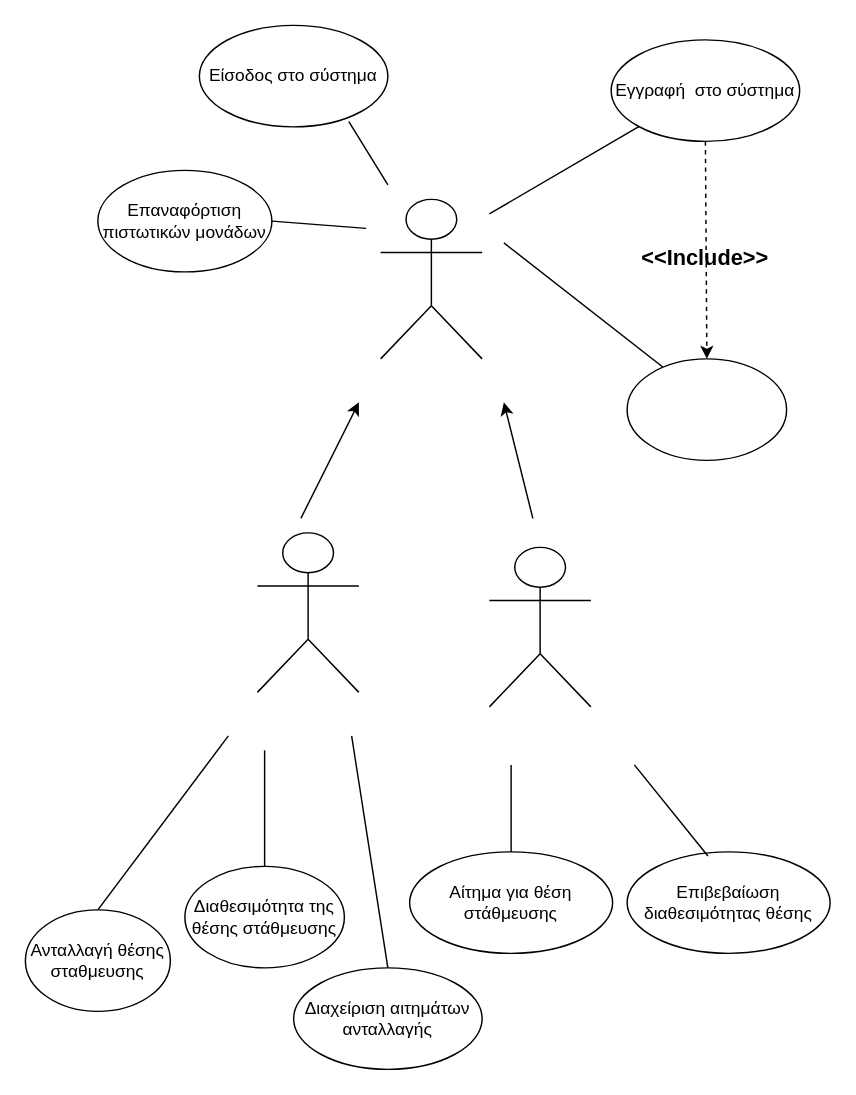
Some shapes in this 856 by 1095 pixel diagram are drawn without their labels. Each missing label, with the centre of its shape:
"Διαχείριση οχημάτων" goes at point (706, 408).
"Ενδιαφερόμενος Χρήστης" goes at point (539, 626).
"Πρόσωπο" goes at point (430, 278).
"Σταθμευμένος Χρήστης" goes at point (307, 611).
